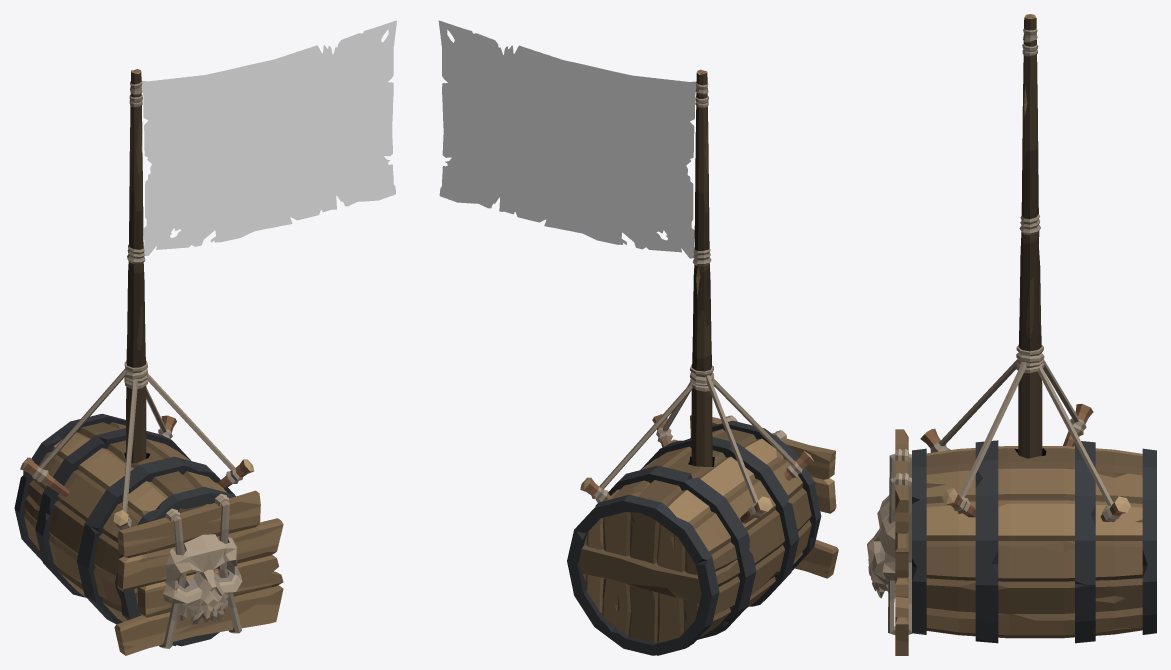
The model's file is SM_Prop_Buoy_01.fbx.
The picture shows the model from 3 angles, left to right: view 1: azimuth 30°, elevation 25°; view 2: azimuth 150°, elevation 25°; view 3: azimuth 270°, elevation 25°; orthographic projection. The views are drawn at different scales.
Parts seen in each view (by area): view 1: SM_Prop_Buoy_01; view 2: SM_Prop_Buoy_01; view 3: SM_Prop_Buoy_01.
Part boxes in pixels (x1,y1,x2,y2): SM_Prop_Buoy_01: [14, 20, 396, 655]; SM_Prop_Buoy_01: [438, 20, 838, 655]; SM_Prop_Buoy_01: [867, 14, 1156, 655].
Bounding box in the file's own units: 391 × 565 × 242.
